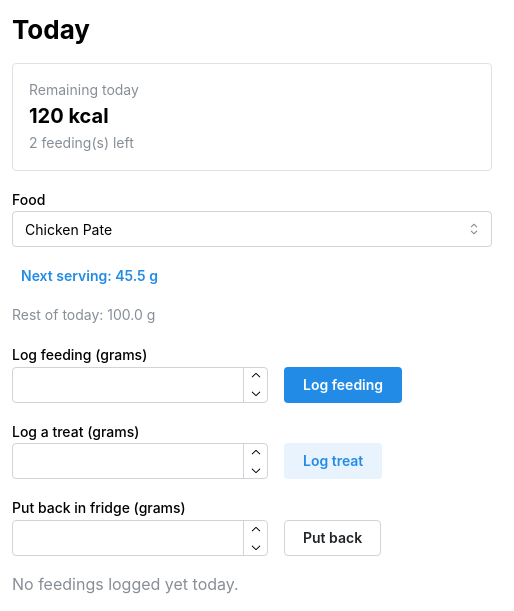
Test case: TodayScreen › leaves archived foods out of the picker and the default selection
This screenshot has width=514, height=611.
Click the field labelled "Food" at (252, 230), box [12,212,492,248]
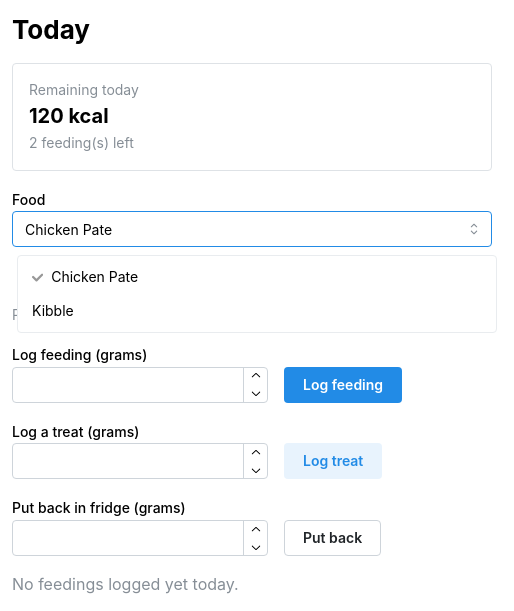
Expected: the option "Kibble" is shown, [32,302,74,319]
